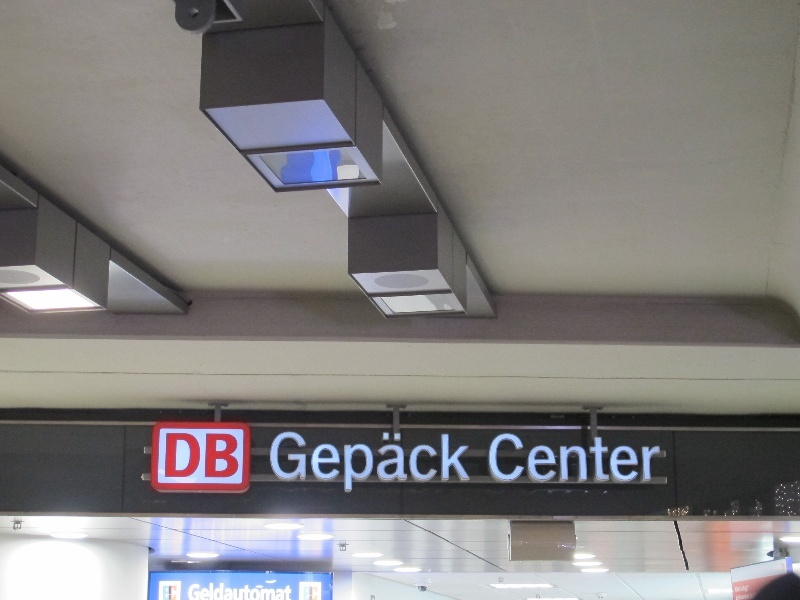text: (273, 433, 288, 492), (289, 433, 304, 492), (305, 433, 320, 492), (321, 433, 336, 492), (337, 433, 352, 492), (353, 433, 368, 492), (369, 433, 384, 492), (385, 433, 400, 492), (401, 433, 416, 492), (417, 433, 432, 492), (433, 433, 448, 492), (449, 433, 464, 492), (497, 435, 512, 484), (513, 435, 528, 484), (529, 435, 544, 484), (545, 435, 560, 484), (561, 435, 576, 484), (577, 435, 592, 484), (593, 435, 608, 484), (609, 435, 624, 484), (625, 435, 640, 484), (641, 435, 656, 484), (177, 432, 192, 478), (193, 432, 208, 478), (209, 432, 224, 478), (225, 432, 239, 478), (166, 432, 176, 478), (465, 433, 471, 492), (193, 583, 208, 600), (209, 583, 224, 600), (225, 583, 240, 600), (241, 583, 256, 600), (257, 583, 272, 600), (273, 583, 288, 600), (492, 435, 496, 484), (657, 435, 661, 484), (737, 592, 752, 600), (737, 585, 749, 592), (189, 583, 192, 600), (289, 583, 292, 600), (753, 592, 759, 600)
